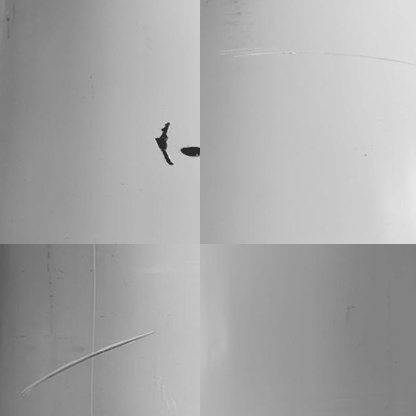kongdong: (151, 120, 176, 167), (179, 142, 199, 157)
sunshang: (13, 329, 157, 400)
